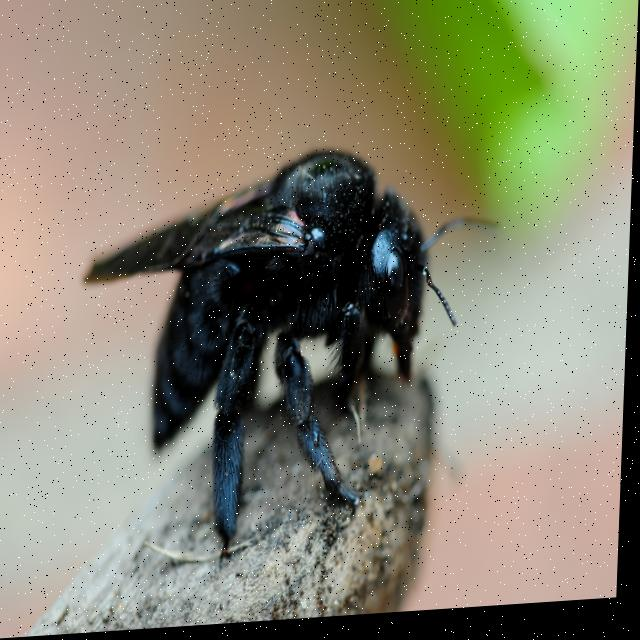Xylocopa: (73, 120, 510, 567)
